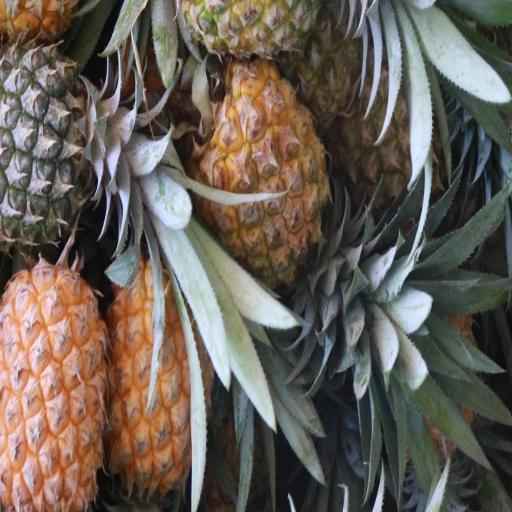------------------------------: (338, 38, 440, 204)
Pineapple - v8 v1: (0, 264, 106, 510), (208, 61, 325, 276), (106, 270, 204, 504)
